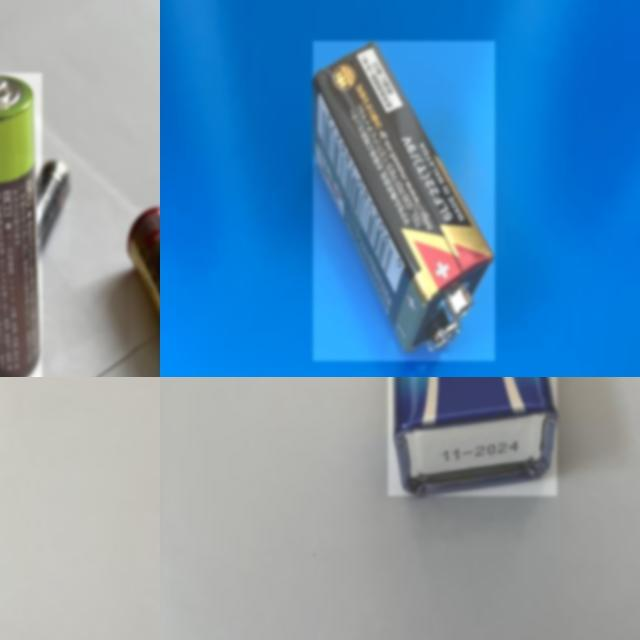9V: (313, 41, 496, 360), (388, 377, 557, 496)
